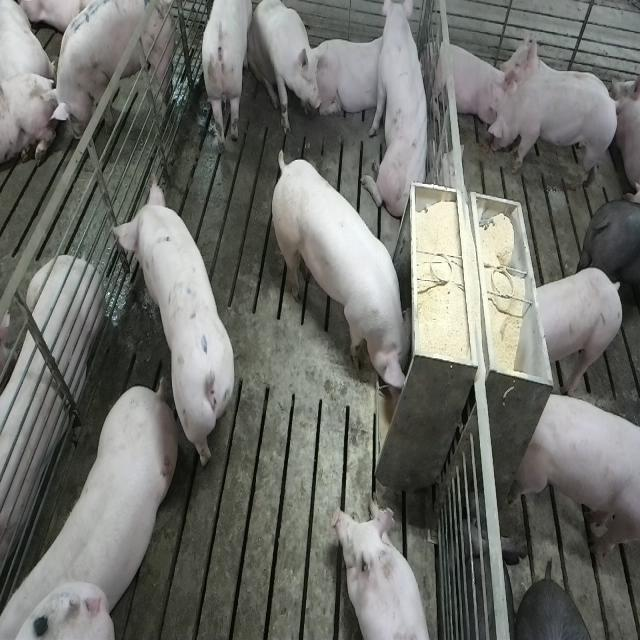Feeding: (274, 147, 420, 396)
Sitting: (369, 3, 432, 224), (248, 0, 322, 136)
Standing: (5, 374, 181, 634), (108, 179, 236, 473), (516, 387, 638, 568), (50, 0, 177, 135), (484, 75, 624, 186), (532, 267, 624, 400), (198, 2, 252, 158), (585, 191, 640, 311)
Sternal_lying: (0, 256, 101, 576), (334, 502, 436, 640), (427, 32, 509, 134), (313, 35, 392, 121), (500, 28, 562, 104)
